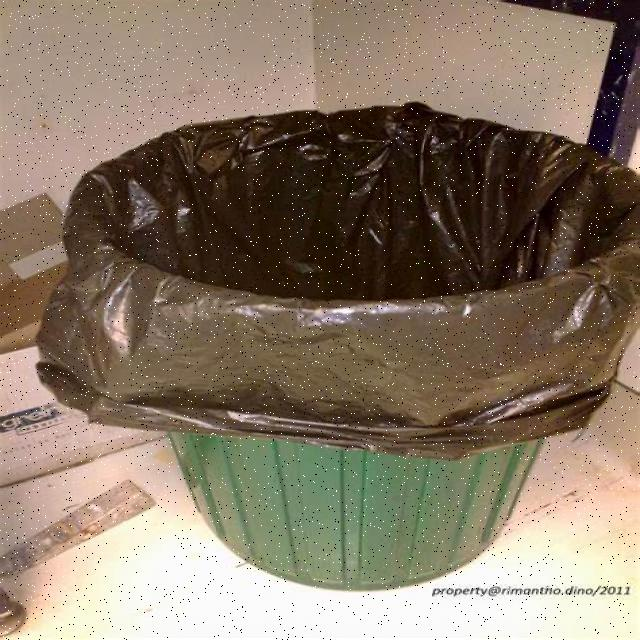garbage container: (30, 86, 640, 595)
